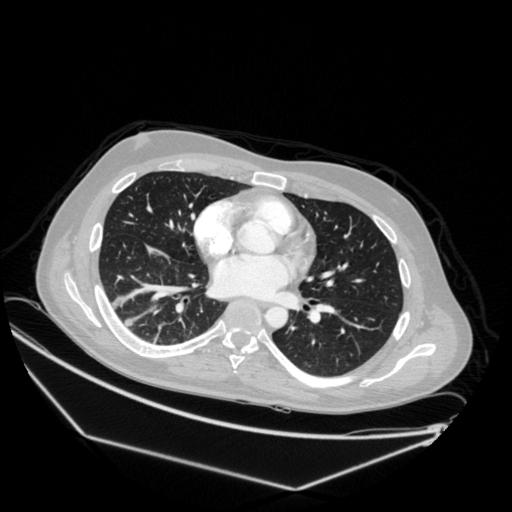nodule: (119, 312, 136, 329)
